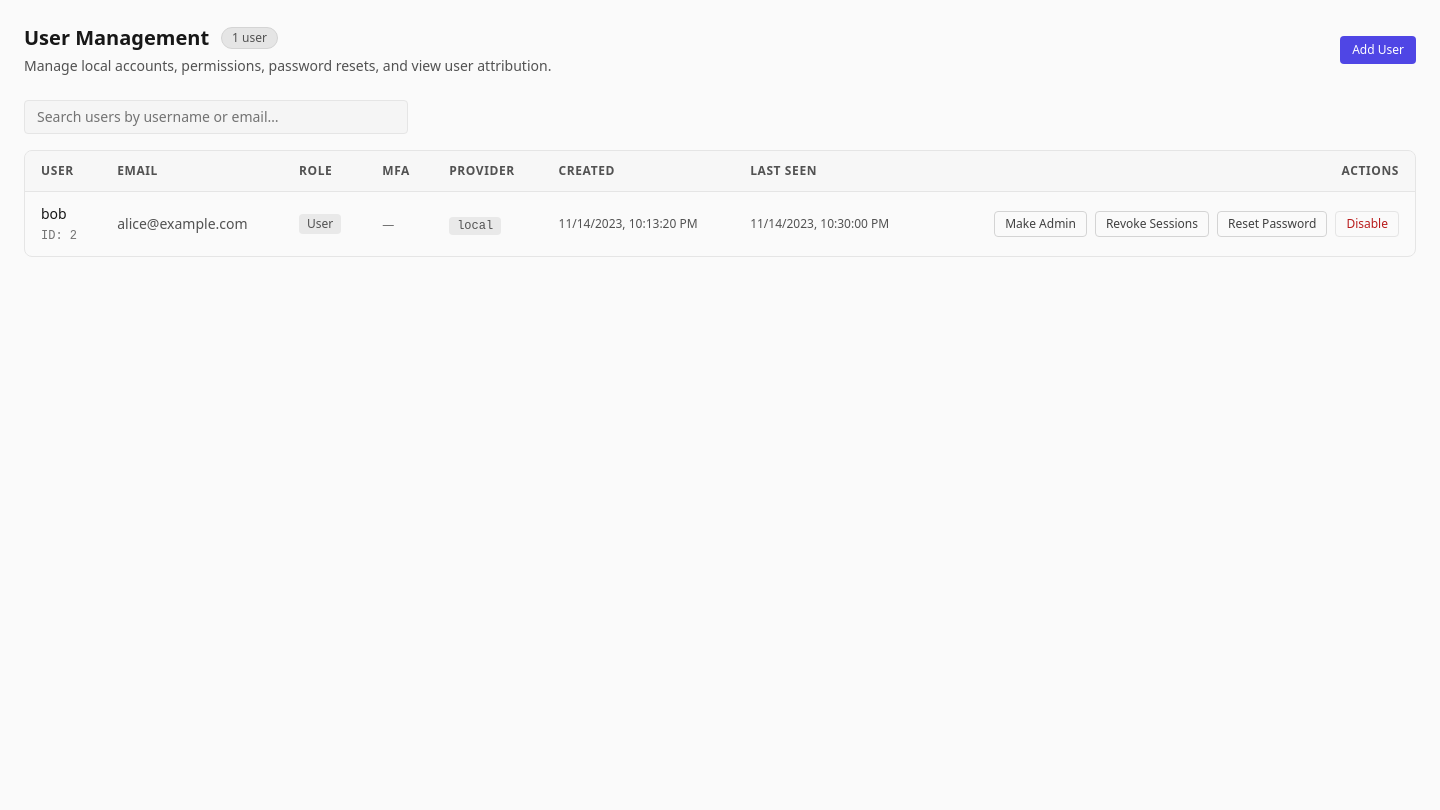
it: UsersPage row actions › toggle-admin cancel opens ConfirmDialog and skips mutation
Click the button "Make Admin" at [1041, 224], box x1=994 y1=211 x2=1087 y2=237
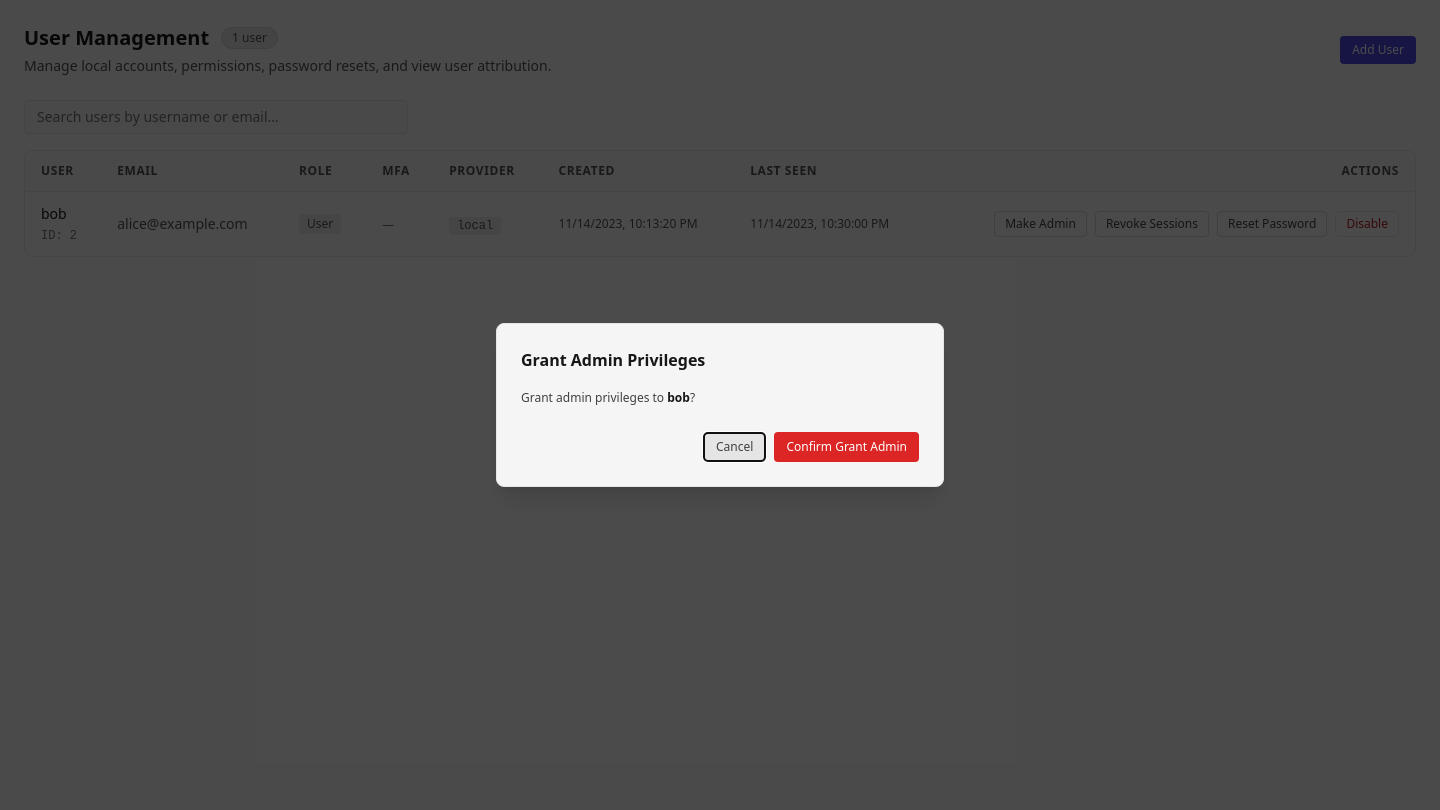
Check: the dialog "Grant Admin Privileges" is shown, box x1=496 y1=323 x2=944 y2=487
Click the button "Cancel" at [735, 447], box x1=703 y1=432 x2=766 y2=462
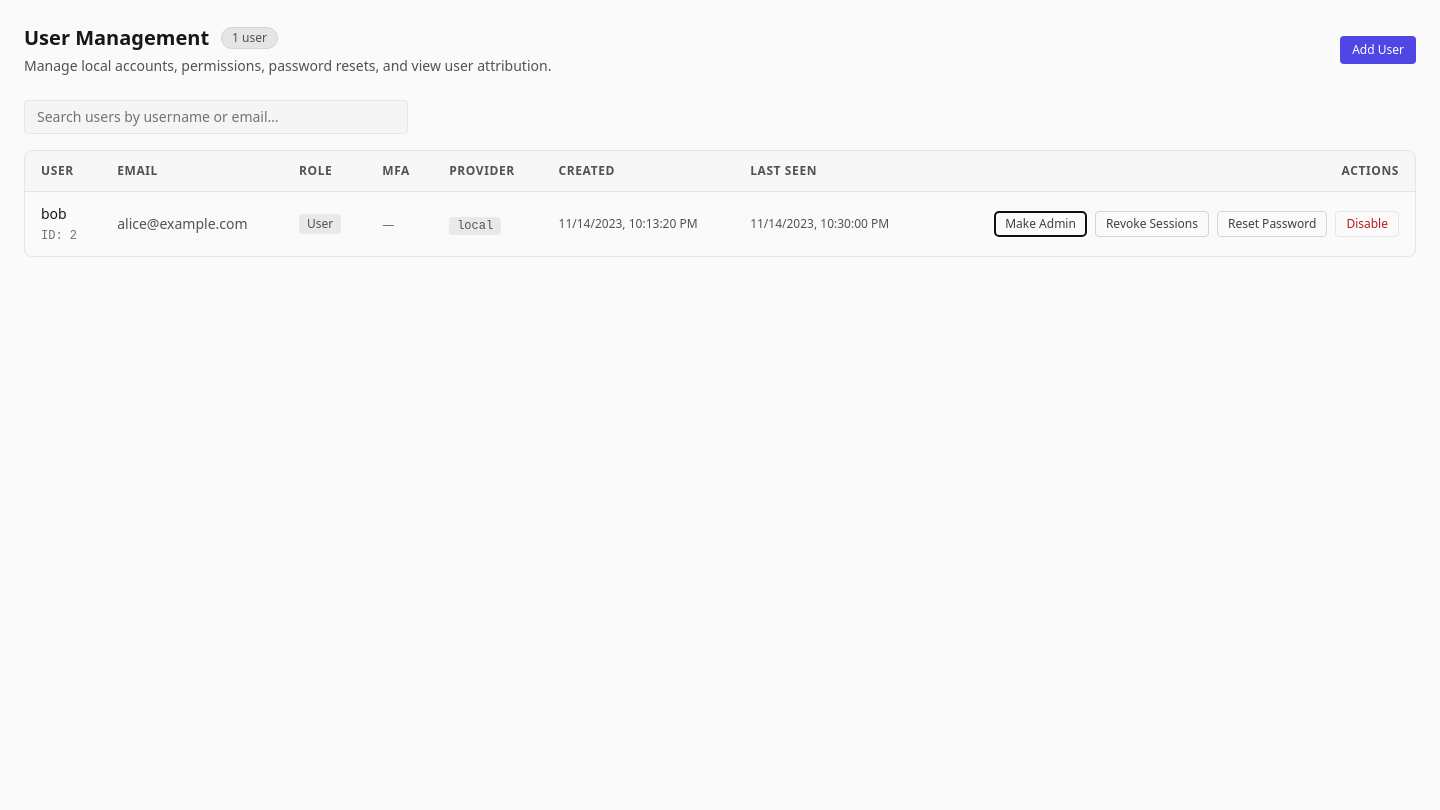
Check: the heading "Grant Admin Privileges" is gone
